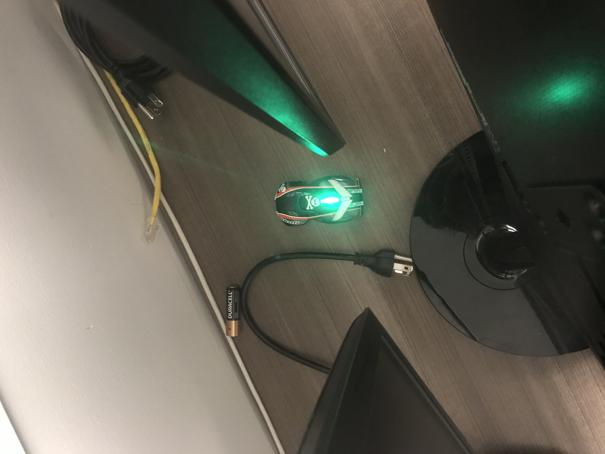Skull: (272, 175, 367, 227)
